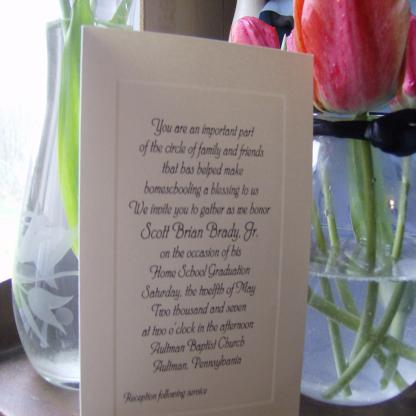vase: (9, 16, 134, 390), (299, 109, 416, 408)
